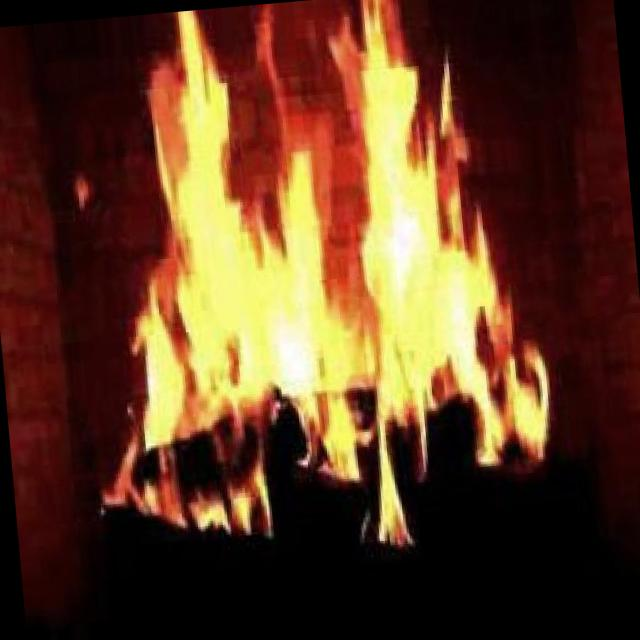Fire: (39, 0, 578, 589)
